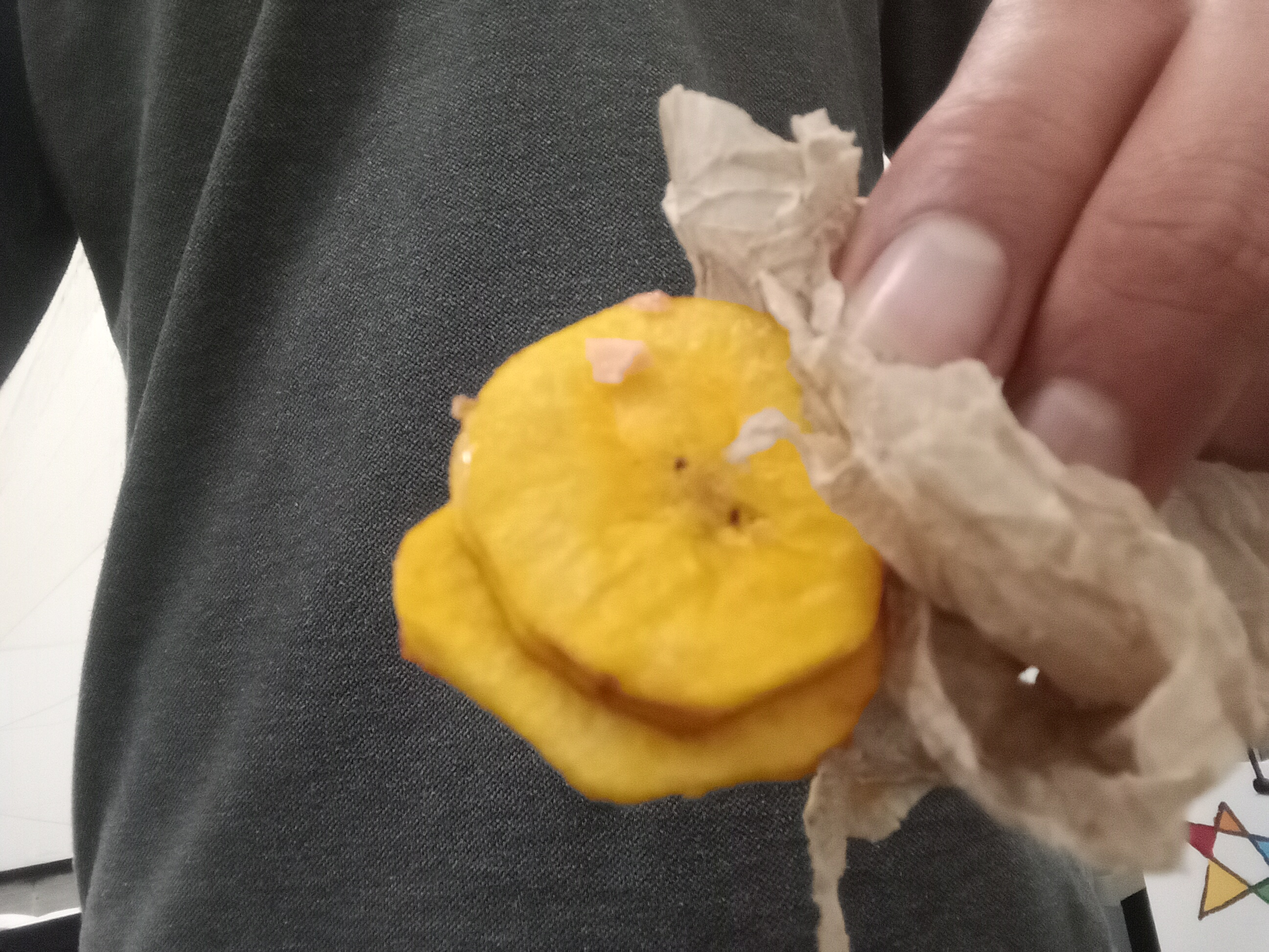Organico: (393, 288, 888, 806)
